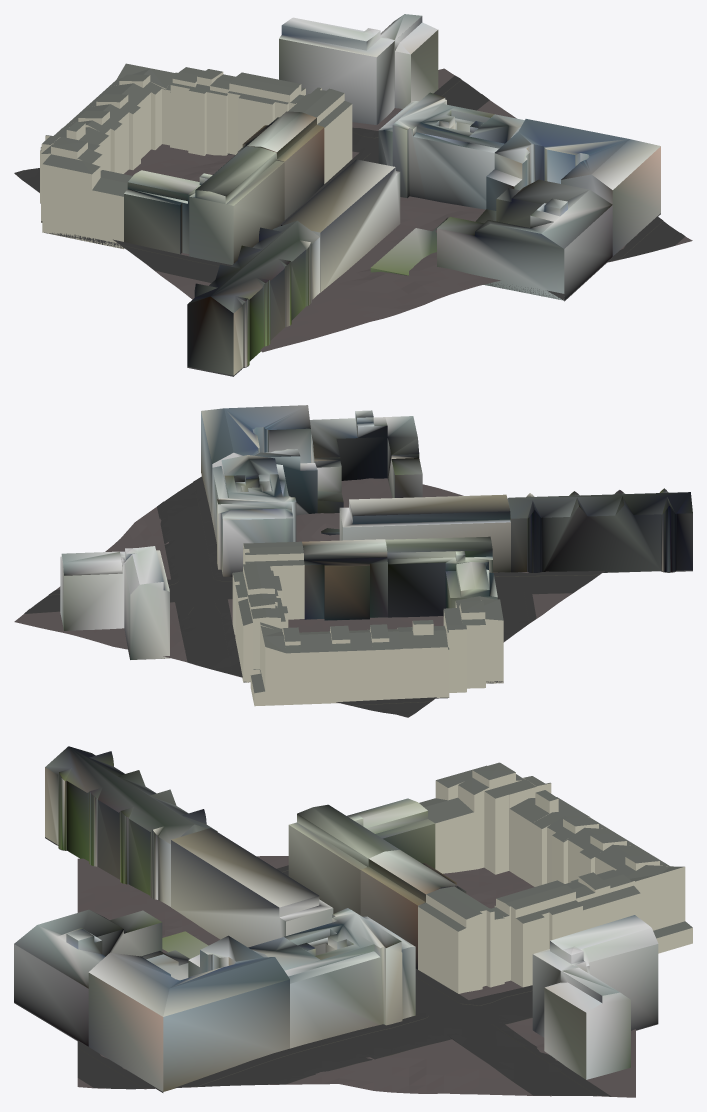
The picture shows the model from 3 angles, top to bottom: view 1: azimuth 30°, elevation 25°; view 2: azimuth 150°, elevation 25°; view 3: azimuth 270°, elevation 25°; orthographic projection. The views are drawn at different scales.
Visible parts, largest first — view 1: c_m07_p07; view 2: c_m07_p07; view 3: c_m07_p07.
Part boxes in pixels (left/top/right/bottom): c_m07_p07: left=14, top=14, right=692, bottom=376; c_m07_p07: left=14, top=405, right=692, bottom=717; c_m07_p07: left=14, top=746, right=692, bottom=1097.
Bounding box in the file's own units: 150 × 25.52 × 156.
